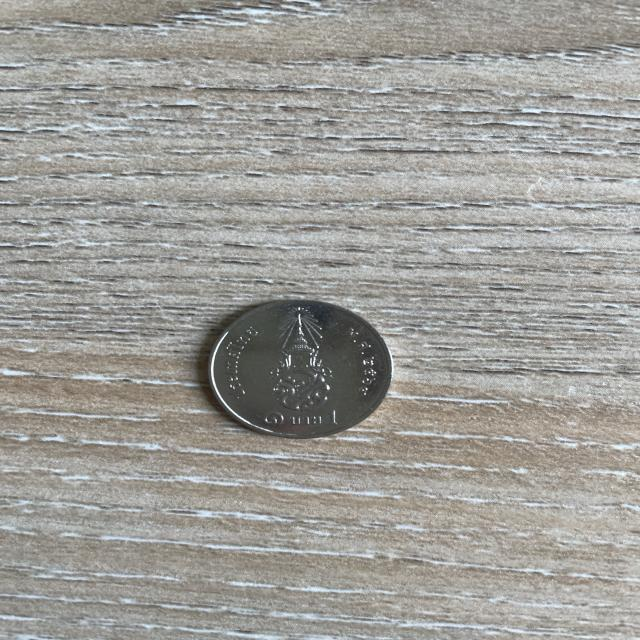1 Bath: (209, 297, 398, 446)
